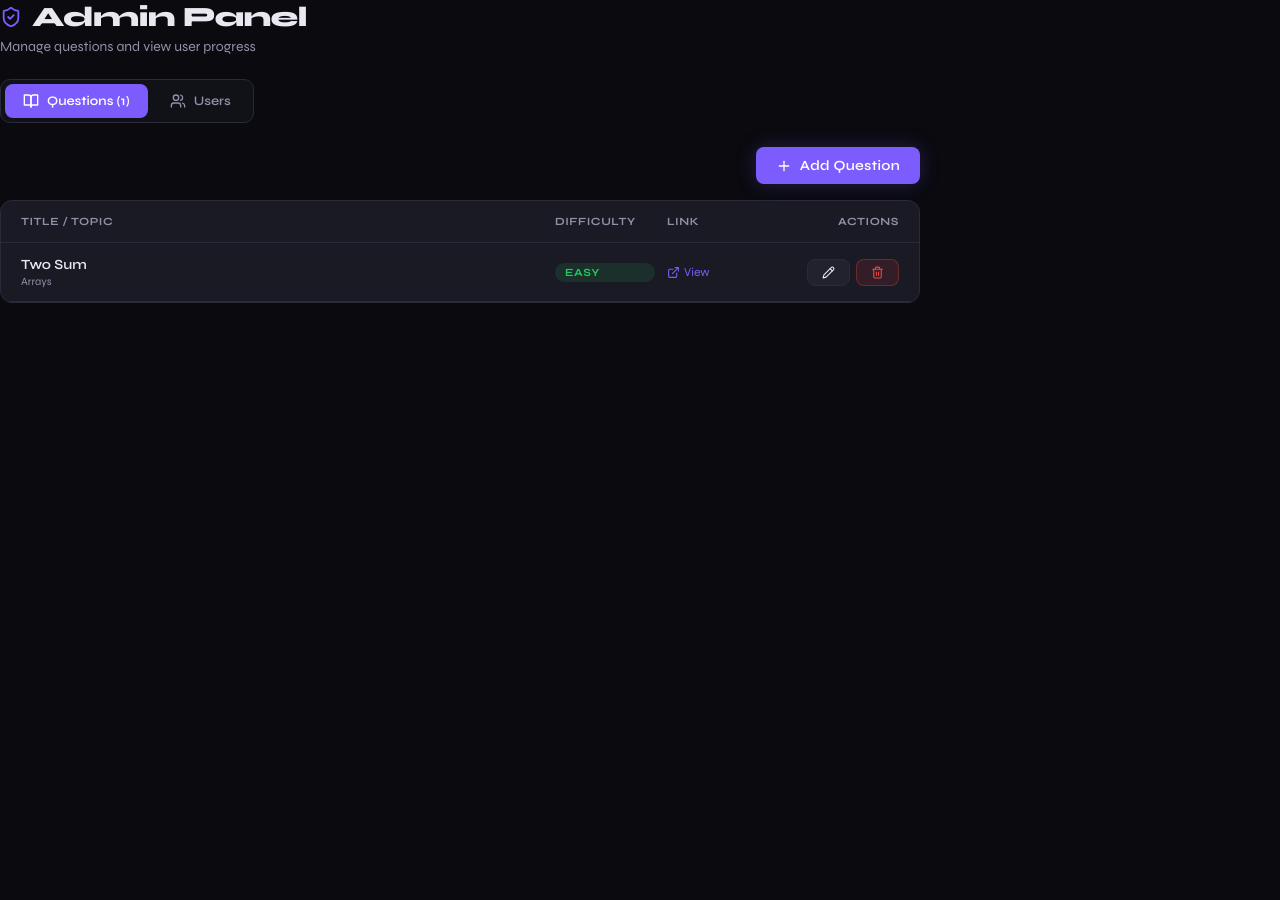
Test: AdminPage › opens new question modal
Click the button "Add Question" at (838, 166), box [756,147,920,184]
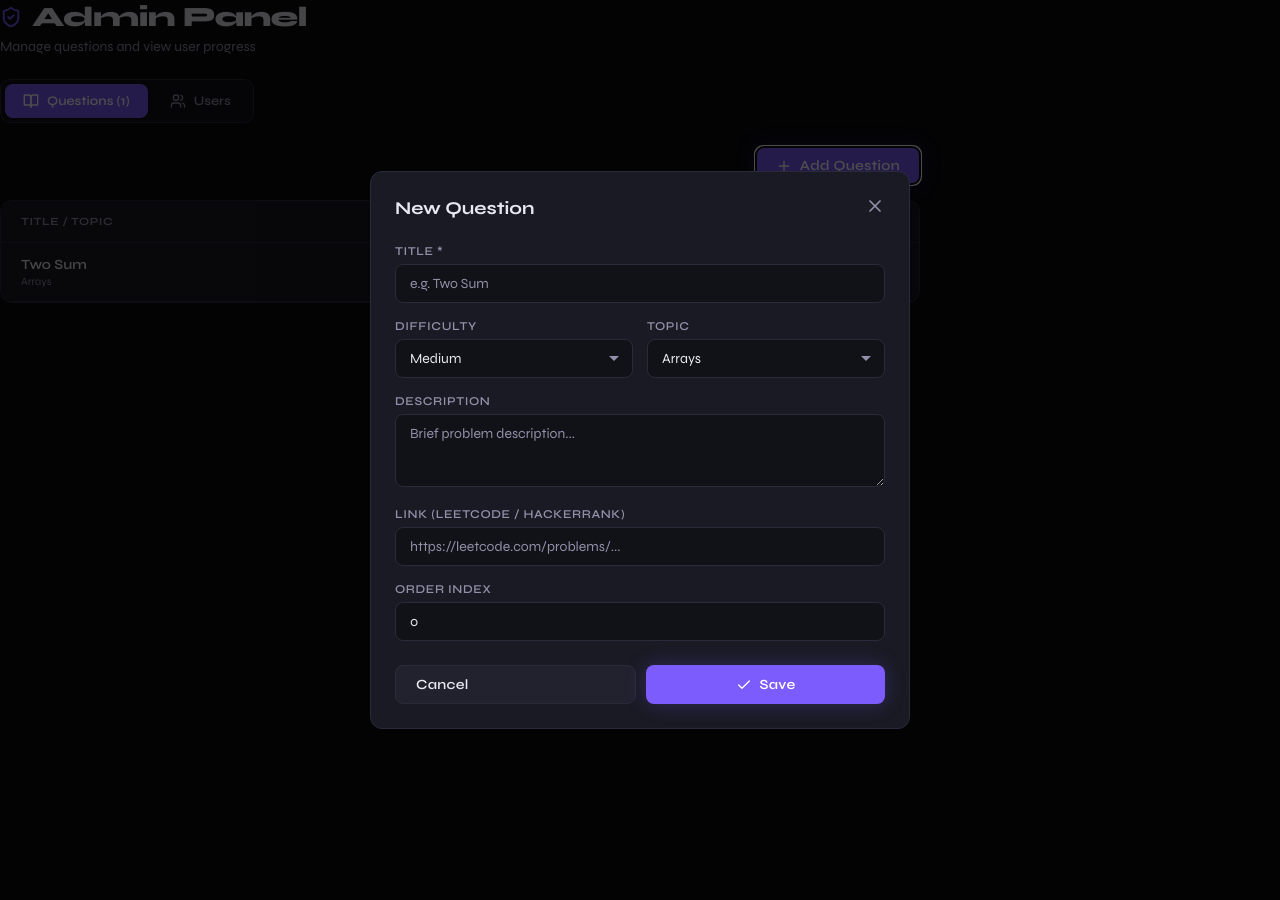
Expected: the heading "New Question" is shown, [395,197,534,219]
